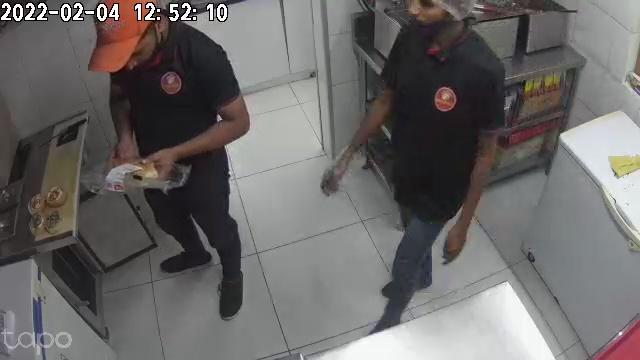no_gloves: (441, 212, 471, 264)
